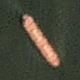ship: (0, 0, 5, 31)
